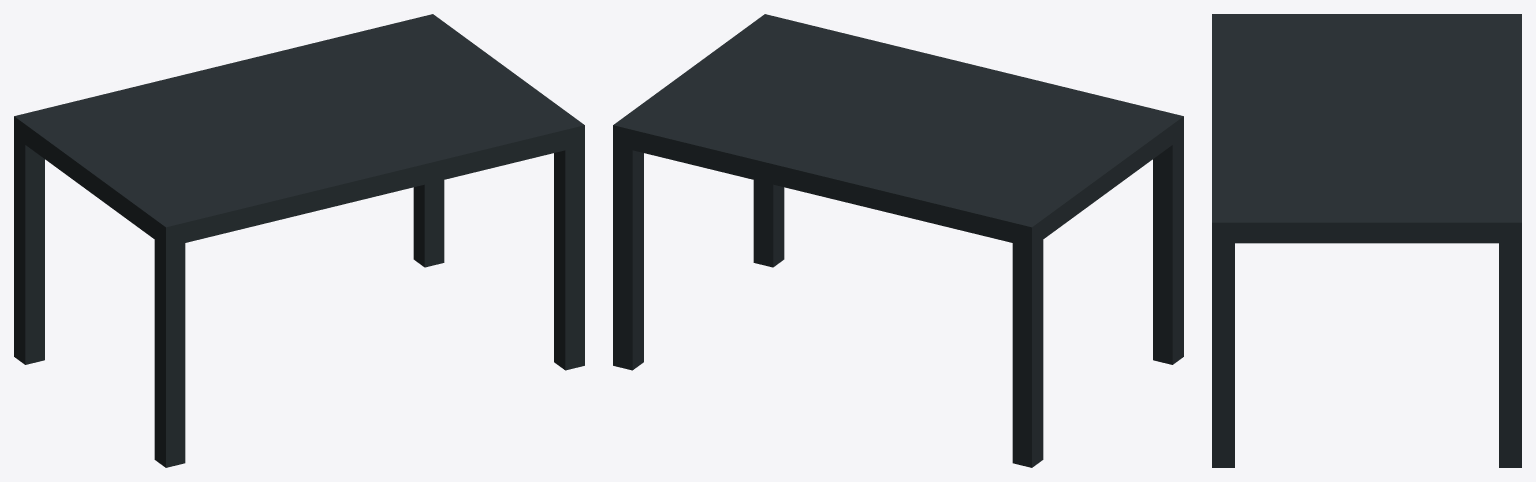
Rendered from table4.fbx.
3 renders of one model, left to right at view 1: azimuth 30°, elevation 25°; view 2: azimuth 150°, elevation 25°; view 3: azimuth 270°, elevation 25°, orthographic. The views are drawn at different scales.
Parts seen in each view (by area): view 1: Cube; view 2: Cube; view 3: Cube.
Part boxes in pixels (bbox=[...]): Cube: bbox=[14, 14, 584, 467]; Cube: bbox=[613, 14, 1183, 467]; Cube: bbox=[1212, 14, 1521, 467].
Size of the model in its own units: 430 by 236 by 270.
